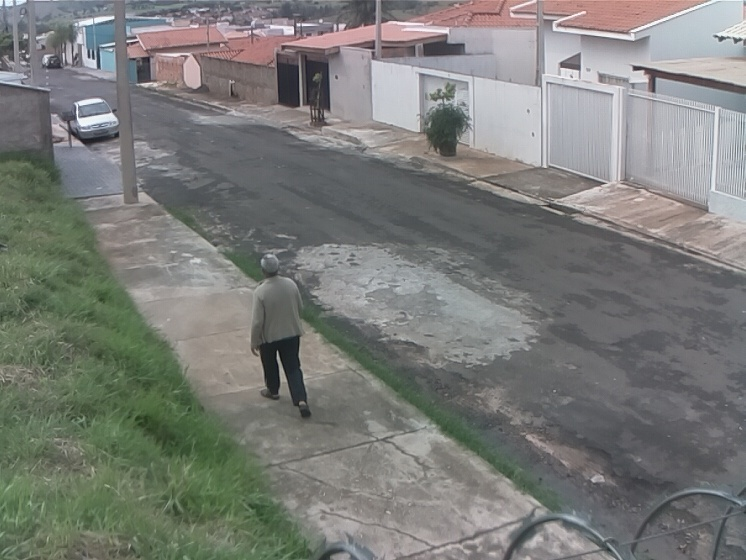person: (247, 249, 313, 420)
